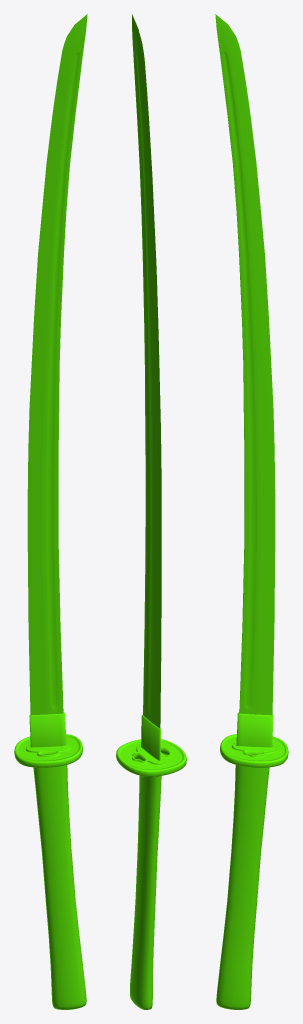
File: katana.glb
The picture shows the model from 3 angles, left to right: view 1: azimuth 90°, elevation 25°; view 2: azimuth 210°, elevation 25°; view 3: azimuth 270°, elevation 25°; orthographic projection.
Parts seen in each view (by area): view 1: Grru_Katana; view 2: Grru_Katana; view 3: Grru_Katana.
Boxes of the visible parts, box(x1,y1,x2,y2) form: Grru_Katana: box(14, 14, 87, 1009); Grru_Katana: box(116, 14, 186, 1009); Grru_Katana: box(215, 14, 288, 1009).
Size of the model in its own units: 0.0825 by 1.32 by 0.0878.
